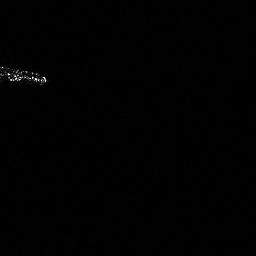ship: (1, 62, 50, 90)
